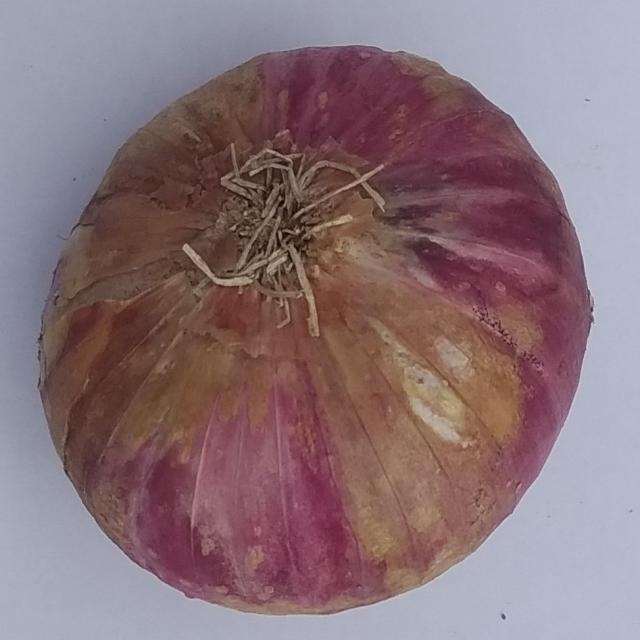onion: (36, 43, 593, 616)
